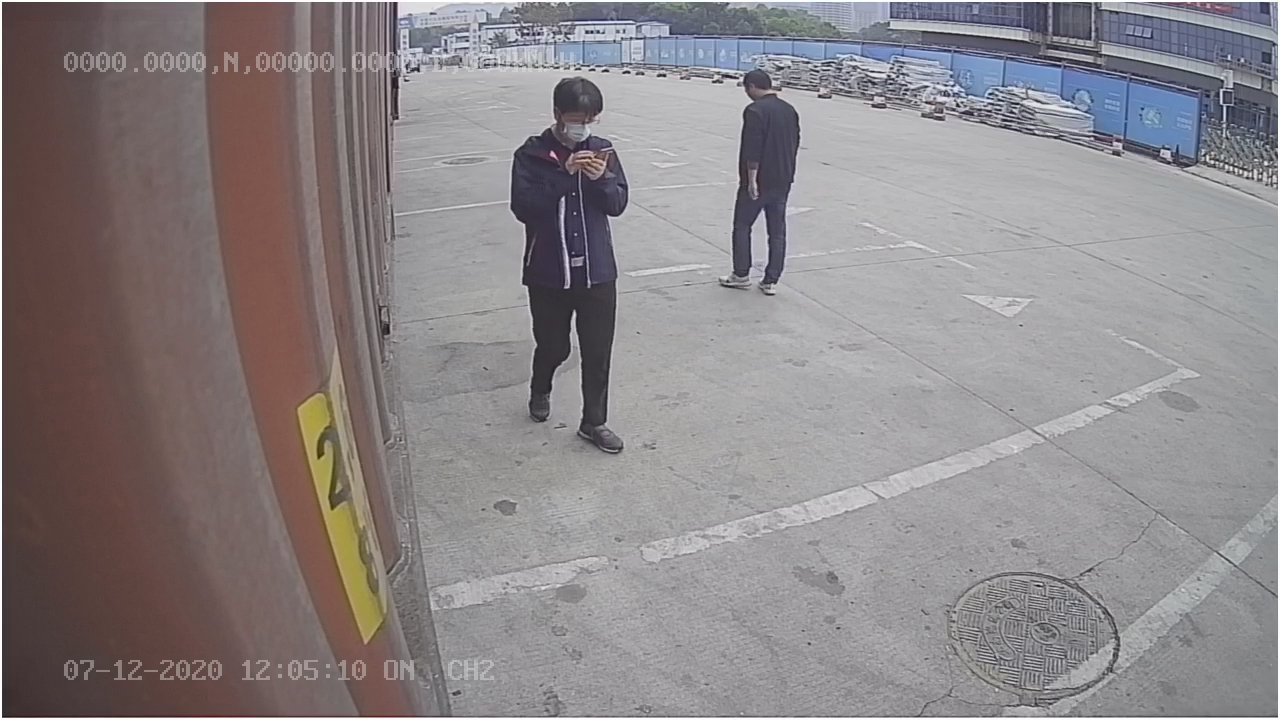person: (505, 67, 633, 458), (716, 67, 804, 299)
